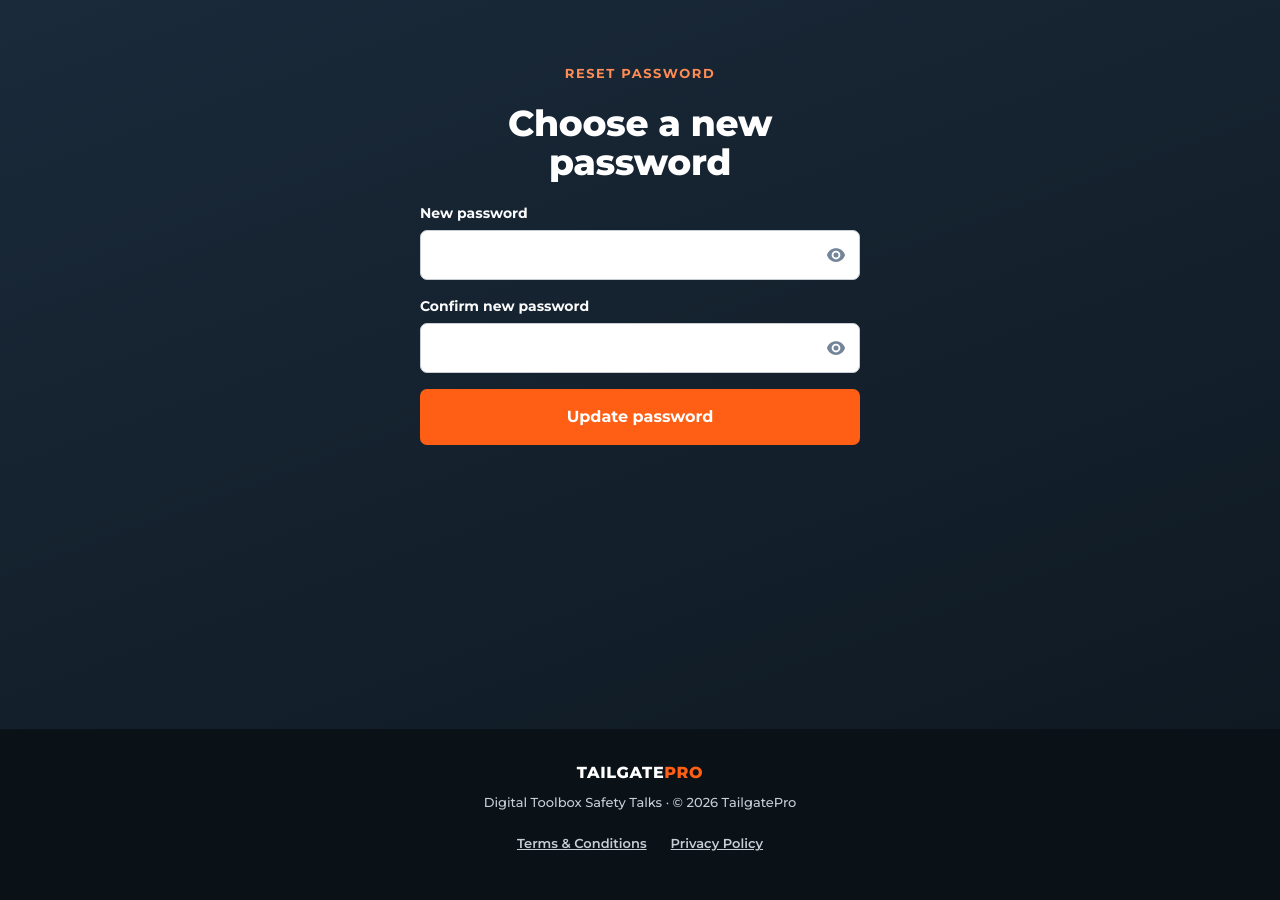
it: ResetPassword page › shows the password field's own validation error when it's too short
In the password field labelled "New password": (640, 255) [420,230,860,280], type "short"
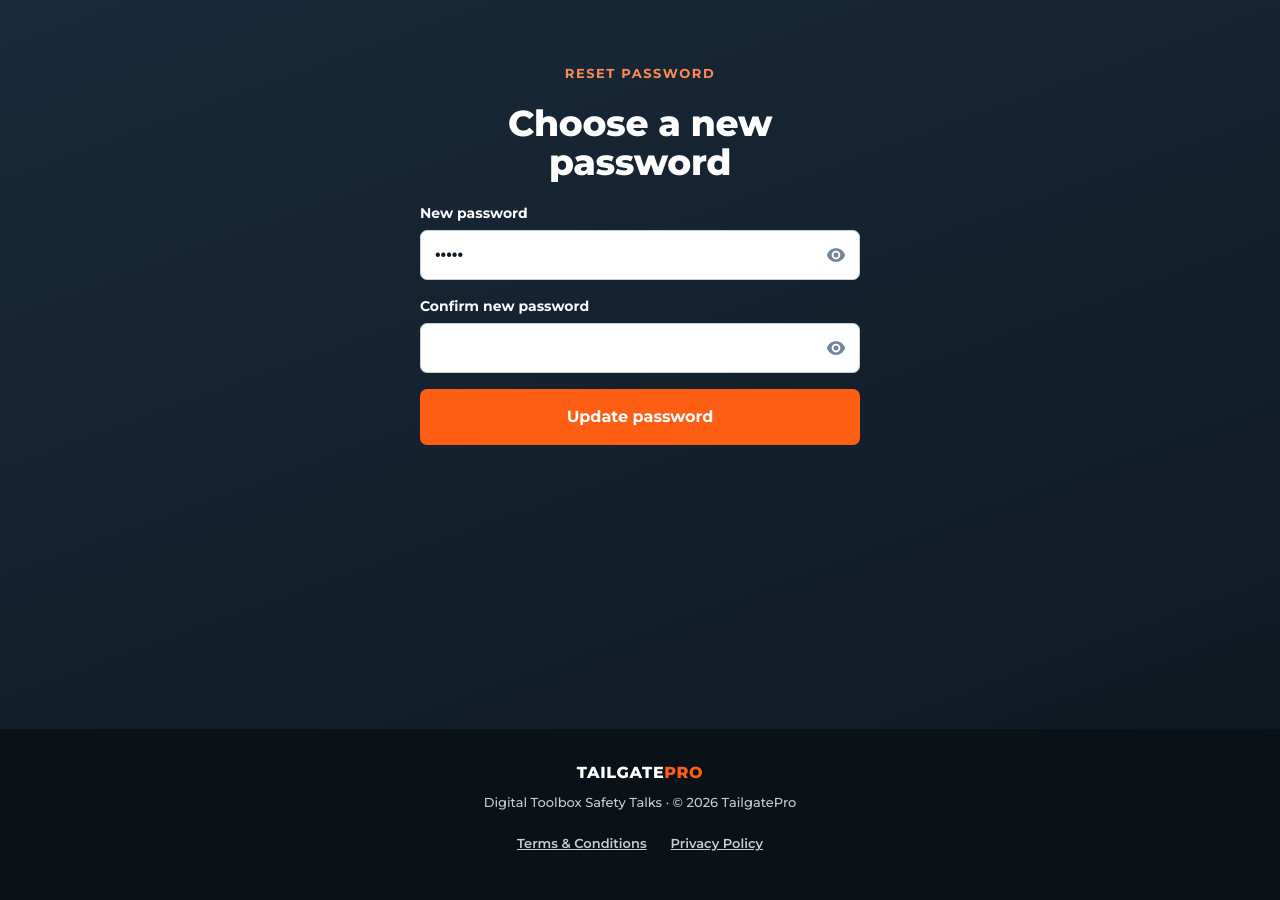
Click the button "Update password": (640, 417) [420,389,860,445]
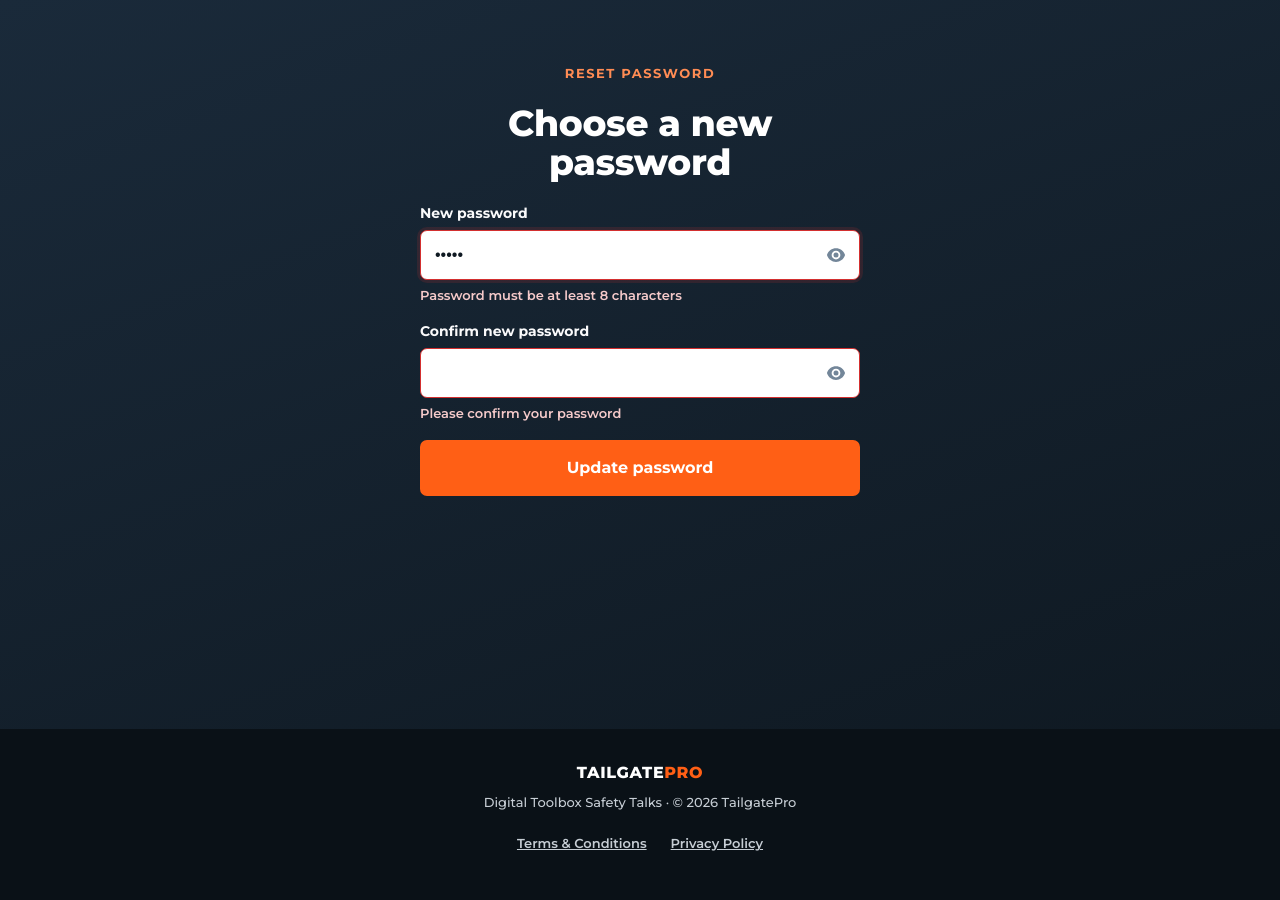
Expected: the text "Password must be at least 8 characters" is shown, [420,287,682,303]
